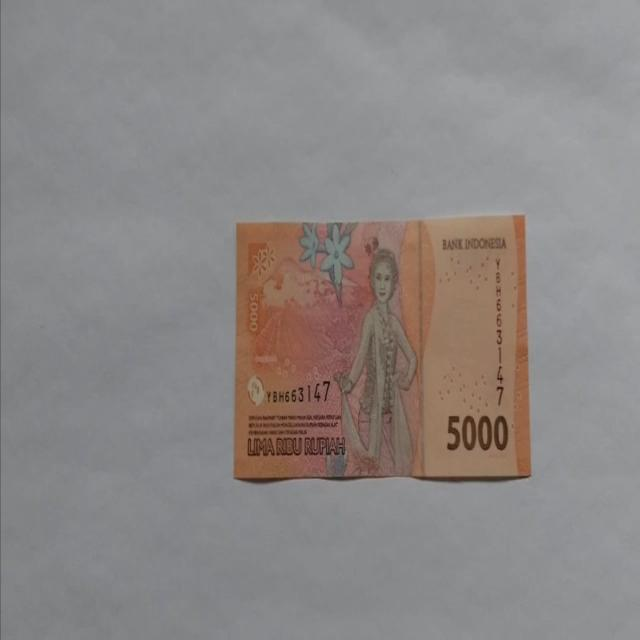lima ribu rupiah: (233, 213, 531, 483), (332, 247, 418, 477)
